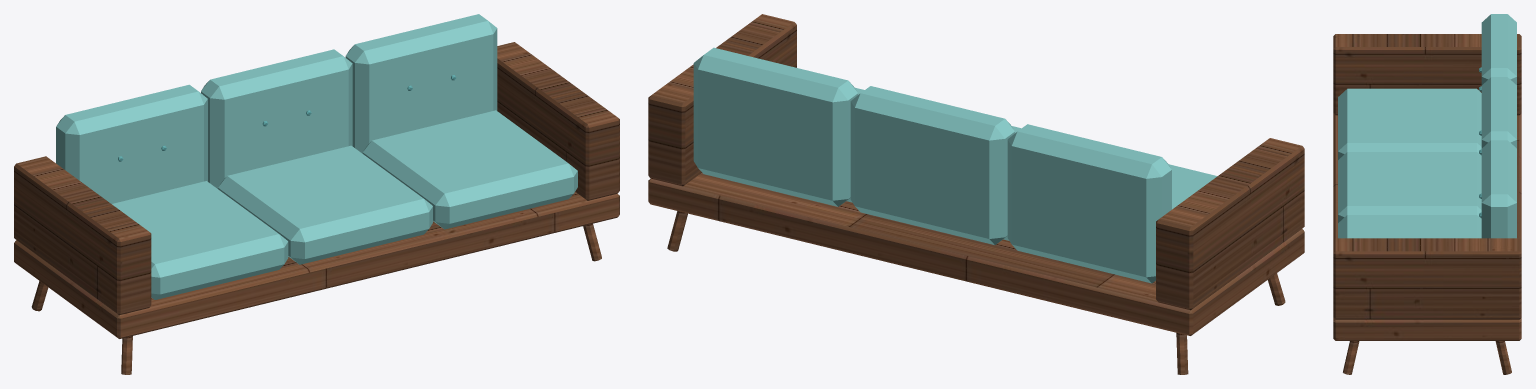
The model's file is sofa.glb.
3 renders of one model, left to right at view 1: azimuth 30°, elevation 25°; view 2: azimuth 150°, elevation 25°; view 3: azimuth 270°, elevation 25°, orthographic. The views are drawn at different scales.
Parts seen in each view (by area): view 1: sofa_vinyl_t, sofa_walnut; view 2: sofa_vinyl_t, sofa_walnut; view 3: sofa_walnut, sofa_vinyl_t.
Part boxes in pixels (left/top/right/bottom): sofa_vinyl_t: left=56, top=14, right=577, bottom=299; sofa_walnut: left=14, top=42, right=619, bottom=374; sofa_vinyl_t: left=693, top=47, right=1217, bottom=283; sofa_walnut: left=648, top=14, right=1304, bottom=374; sofa_walnut: left=1333, top=34, right=1521, bottom=374; sofa_vinyl_t: left=1338, top=14, right=1516, bottom=238.
Bounding box in the file's own units: 2.2 × 0.7853 × 0.8.
Materials: 3 (1 with a texture image).
